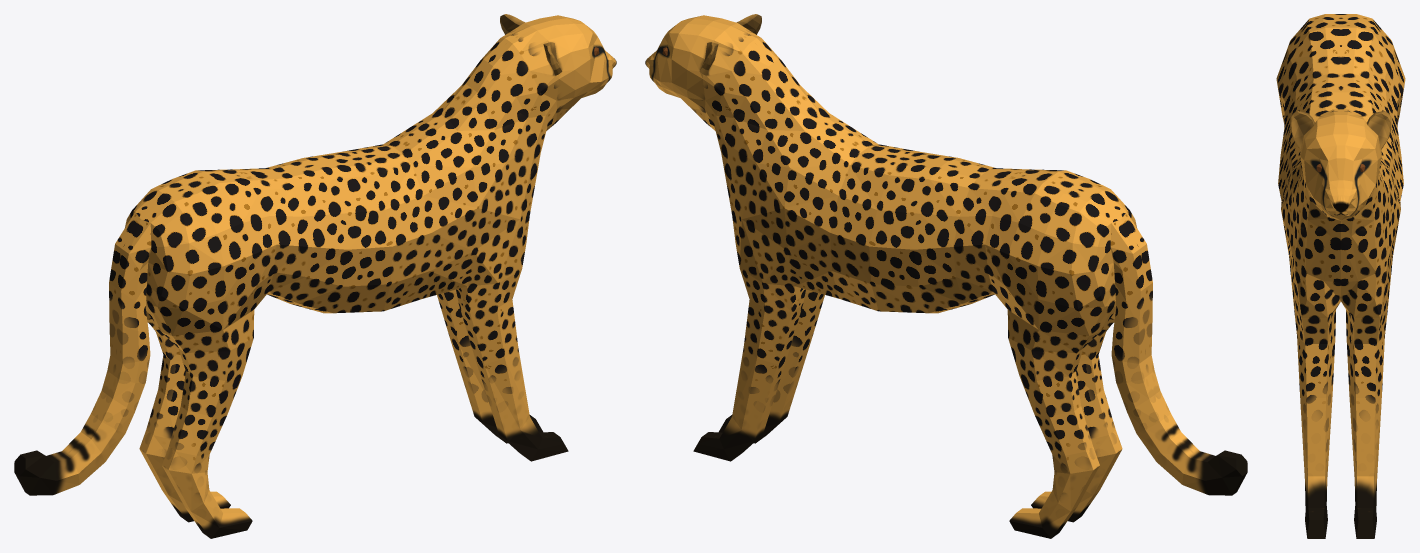
Rendered from Cheetah.fbx.
3 views of the same model, side by side, from view 1: azimuth 30°, elevation 25°; view 2: azimuth 150°, elevation 25°; view 3: azimuth 270°, elevation 25° (orthographic).
Visible parts, largest first — view 1: Cheetah; view 2: Cheetah; view 3: Cheetah.
Part boxes in pixels (bbox=[...]): Cheetah: bbox=[14, 14, 616, 538]; Cheetah: bbox=[645, 14, 1247, 538]; Cheetah: bbox=[1276, 14, 1405, 538].
Bounding box in the file's own units: 150 × 100 × 28.06.
